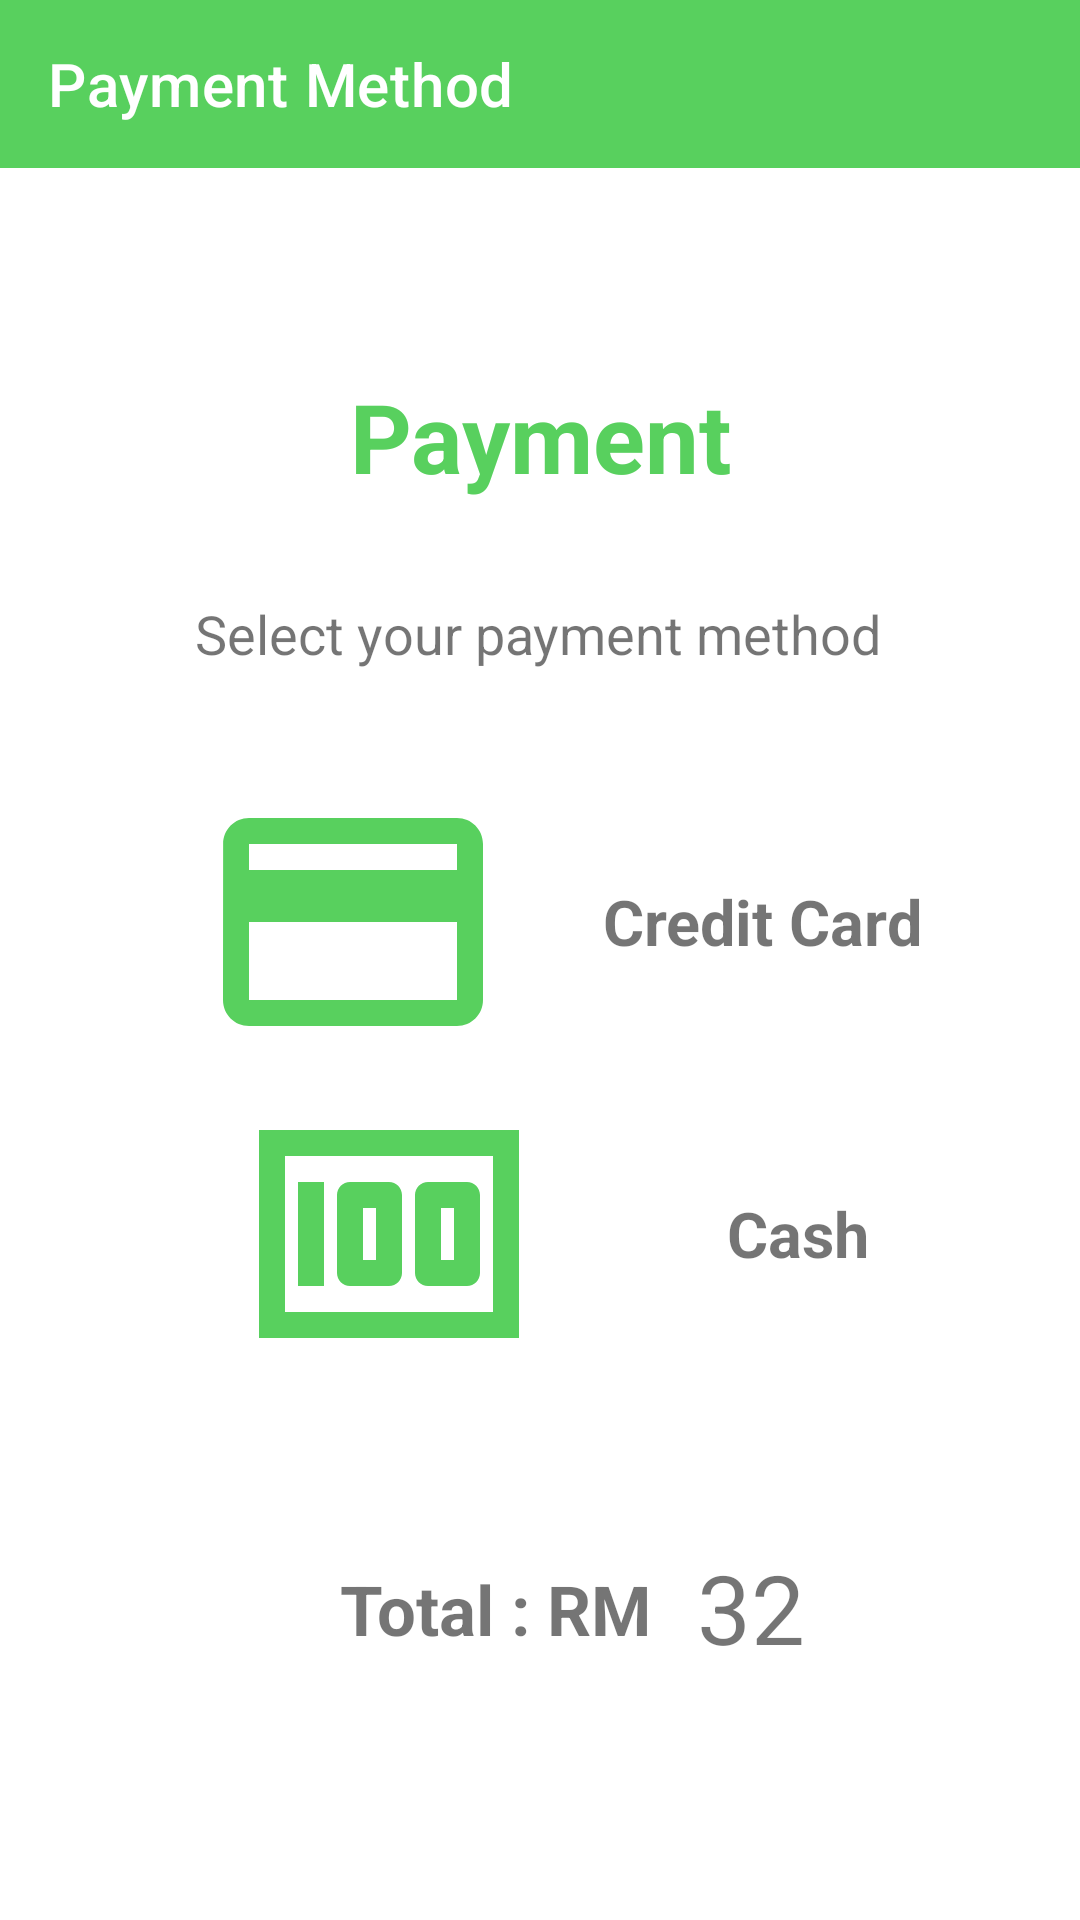

Where to tap for icons on this 1080px x 1920px app screen, as (x,y):
money: (389,1234)
